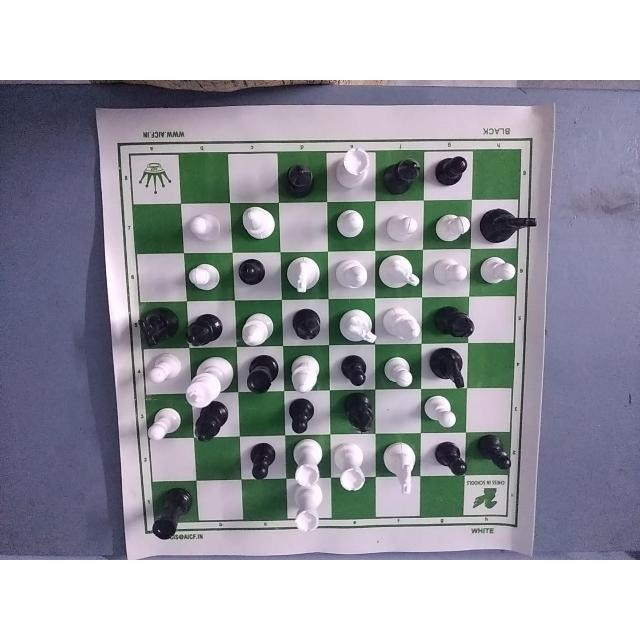black-bishop: (336, 395, 379, 435), (433, 305, 482, 339), (386, 153, 422, 197), (291, 308, 326, 352), (187, 311, 226, 344), (284, 163, 316, 201), (197, 412, 231, 444)
black-knight: (482, 202, 537, 244), (429, 347, 472, 391), (137, 306, 177, 348)
black-pawn: (473, 435, 516, 480), (434, 148, 467, 192), (435, 440, 467, 484), (245, 439, 275, 483), (334, 353, 369, 388), (287, 398, 321, 434), (237, 261, 273, 290)
black-rook: (148, 486, 196, 541), (241, 356, 279, 400)
white-bishop: (232, 204, 275, 245), (385, 300, 422, 343), (289, 351, 324, 396), (241, 306, 277, 346), (336, 259, 370, 294)
white-king: (188, 350, 236, 401)
white-knight: (385, 434, 427, 500), (332, 301, 378, 351), (282, 254, 326, 298), (380, 252, 420, 294)
white-pawn: (476, 250, 522, 294), (146, 352, 183, 393), (143, 409, 182, 447), (338, 204, 370, 248), (184, 204, 220, 242), (436, 202, 470, 242), (429, 256, 467, 290), (384, 350, 414, 392), (384, 207, 418, 243), (426, 397, 458, 431), (186, 262, 218, 294)
white-rook: (332, 437, 366, 497), (288, 485, 326, 534), (333, 147, 369, 192), (291, 438, 323, 484)
